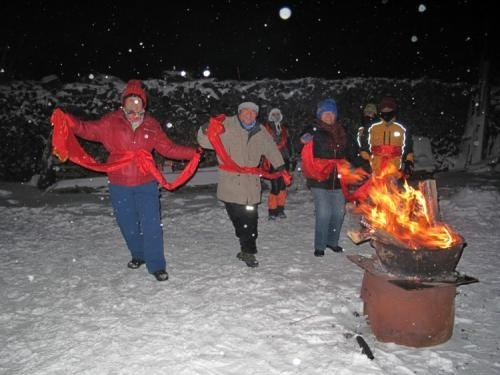fire: (349, 159, 458, 251)
